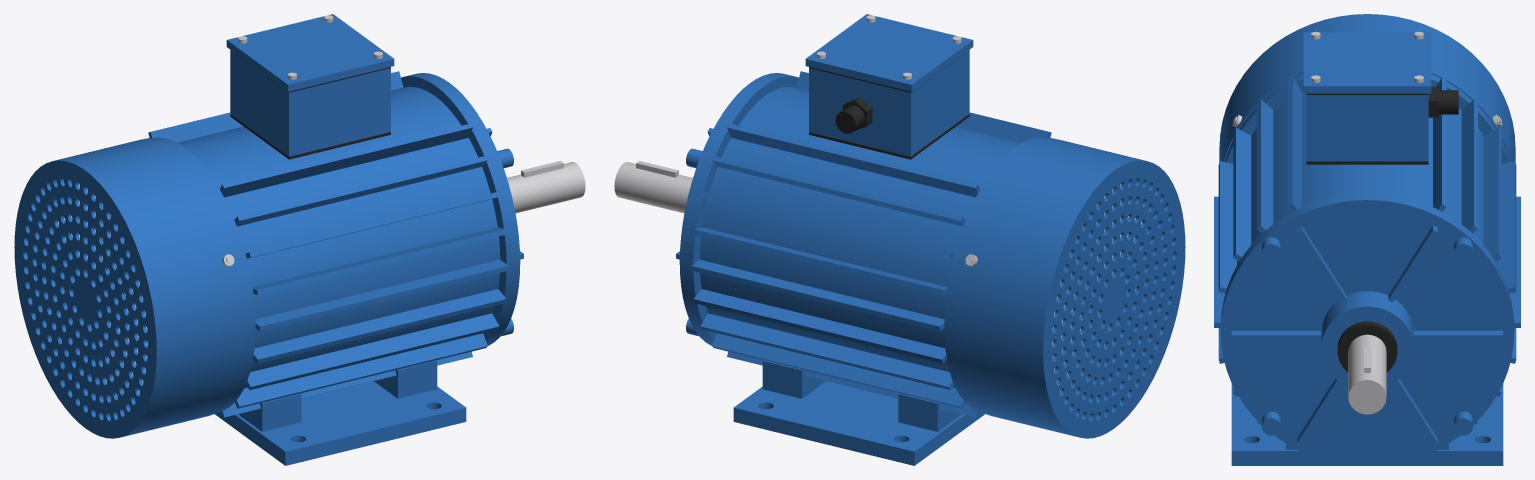
The model's file is motor_2.glb.
3 views of the same model, side by side, from view 1: azimuth 30°, elevation 25°; view 2: azimuth 150°, elevation 25°; view 3: azimuth 270°, elevation 25° (orthographic). The views are drawn at different scales.
Visible parts, largest first — view 1: stator_housing, fan_cover, foot, terminal_box, tb_cover, front_shield, rear_shield, rotor, tb_gasket_bottom; view 2: stator_housing, fan_cover, foot, terminal_box, tb_cover, front_shield, rear_shield, rotor, cable_gland, tb_gasket_bottom; view 3: front_shield, stator_housing, fan_cover, terminal_box, tb_cover, foot, rotor, rear_shield, front_seal, cable_gland, tb_gasket_bottom.
Boxes of the visible parts, <box> form: stator_housing: <box>145,71,508,417</box>; fan_cover: <box>14,138,245,438</box>; foot: <box>215,360,466,465</box>; terminal_box: <box>230,50,390,156</box>; tb_cover: <box>226,14,394,91</box>; front_shield: <box>401,73,523,345</box>; rear_shield: <box>150,137,255,412</box>; rotor: <box>94,162,585,311</box>; tb_gasket_bottom: <box>230,114,390,159</box>; stator_housing: <box>691,71,1054,417</box>; fan_cover: <box>954,138,1185,438</box>; foot: <box>733,360,984,465</box>; terminal_box: <box>809,50,969,156</box>; tb_cover: <box>805,14,973,91</box>; front_shield: <box>676,73,798,345</box>; rear_shield: <box>944,137,1049,412</box>; rotor: <box>614,162,1105,311</box>; cable_gland: <box>835,97,872,133</box>; tb_gasket_bottom: <box>809,114,969,159</box>; front_shield: <box>1220,193,1514,465</box>; stator_housing: <box>1214,78,1520,425</box>; fan_cover: <box>1219,14,1515,161</box>; terminal_box: <box>1306,95,1428,161</box>; tb_cover: <box>1303,32,1431,93</box>; foot: <box>1231,384,1503,465</box>; rotor: <box>1348,334,1386,414</box>; rear_shield: <box>1225,74,1509,163</box>; front_seal: <box>1337,321,1397,372</box>; cable_gland: <box>1428,87,1458,117</box>; tb_gasket_bottom: <box>1306,161,1428,164</box>.
Size of the model in its own units: 0.434 by 0.296 by 0.226.
